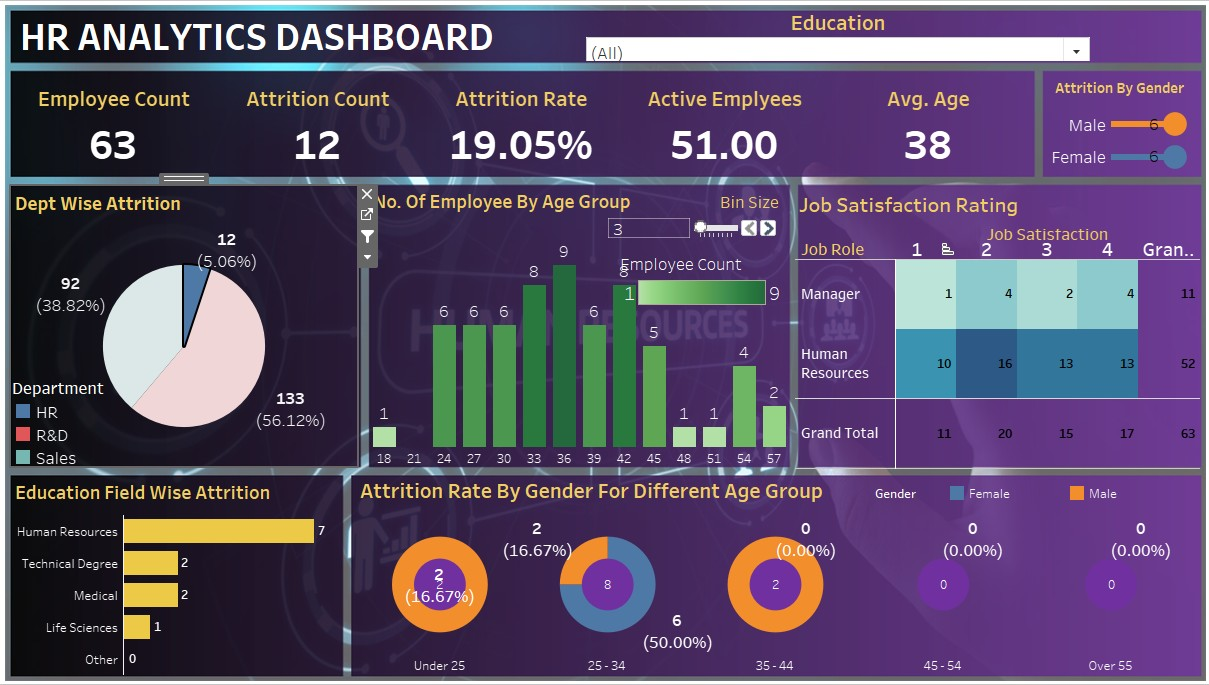

What the dashboard file says about the page in this screenshot:
{"tool":"tableau","page":{"name":"HR Analytics Dashboard","canvas":[1280,700],"ordinal":0},"visuals":[{"type":"image","param":"Image/HR background final.png","box":[8,8,1264,684]},{"type":"filter","title":"Dept Wise Attrition","param":"[federated.0ip1zpd0ai3lzq1g1te4b1hxfe0w].[none:Education:nk]","box":[617,15,510,53]},{"type":"text","box":[50,22,490,41]},{"type":"worksheet","title":"KPI","mark":"Automatic","box":[46,79,1019,102]},{"type":"worksheet","title":"Attrition By Gender","mark":"Automatic","rows":["Gender"],"cols":["Calculation_170010950689271808","Calculation_170010950689271808"],"box":[1077,81,153,99]},{"type":"worksheet","title":"No. Of Employee By Age Group","mark":"Automatic","rows":["Employee Count"],"cols":["Age (bin)"],"box":[403,191,420,284]},{"type":"worksheet","title":"Dept Wise Attrition","mark":"Pie","box":[45,193,346,280]},{"type":"worksheet","title":"Job Satisfaction Rating","mark":"Square","rows":["Job Role"],"cols":["Job Satisfaction"],"box":[829,193,405,283]},{"type":"parameter","param":"[Parameters].[Parameter 1]","box":[639,198,174,54]},{"type":"legend","title":"No. Of Employee By Age Group","param":"[federated.0ip1zpd0ai3lzq1g1te4b1hxfe0w].[sum:Employee Count:qk]","box":[654,259,165,53]},{"type":"legend","title":"Dept Wise Attrition","param":"[federated.0ip1zpd0ai3lzq1g1te4b1hxfe0w].[none:Department:nk]","box":[46,384,103,109]},{"type":"worksheet","title":"Attrition Rate By Gender For Different Age Group","mark":"Pie","rows":["Calculation_170010950747795461","Calculation_170010950747795461"],"cols":["CF_age band"],"box":[390,479,840,203]},{"type":"worksheet","title":"Education Field Wise Attrition","mark":"Automatic","rows":["Education Field"],"cols":["Calculation_170010950689271808"],"box":[45,482,330,200]},{"type":"legend","title":"Attrition Rate By Gender For Different Age Group","param":"[federated.0ip1zpd0ai3lzq1g1te4b1hxfe0w].[none:Gender:nk]","box":[909,490,318,34]}]}

Visuals, with their boxes on the page's 1280x700 design canvas (x1, y1, x2, y2). These are canvas units, not pixel positions in the 1209x685 screenshot, which may show the page scaled, cropped or inside an application window:
image: <box>8,8,1272,692</box>
"Dept Wise Attrition" filter: <box>617,15,1127,68</box>
text: <box>50,22,540,63</box>
"KPI" worksheet: <box>46,79,1065,181</box>
"Attrition By Gender" worksheet: <box>1077,81,1230,180</box>
"No. Of Employee By Age Group" worksheet: <box>403,191,823,475</box>
"Dept Wise Attrition" worksheet (Pie marks): <box>45,193,391,473</box>
"Job Satisfaction Rating" worksheet (Square marks): <box>829,193,1234,476</box>
parameter: <box>639,198,813,252</box>
"No. Of Employee By Age Group" legend: <box>654,259,819,312</box>
"Dept Wise Attrition" legend: <box>46,384,149,493</box>
"Attrition Rate By Gender For Different Age Group" worksheet (Pie marks): <box>390,479,1230,682</box>
"Education Field Wise Attrition" worksheet: <box>45,482,375,682</box>
"Attrition Rate By Gender For Different Age Group" legend: <box>909,490,1227,524</box>
